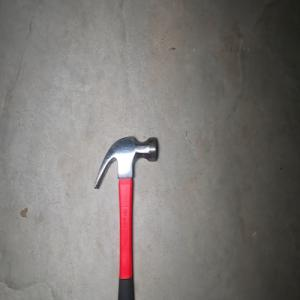Hammer: (92, 134, 158, 300)
